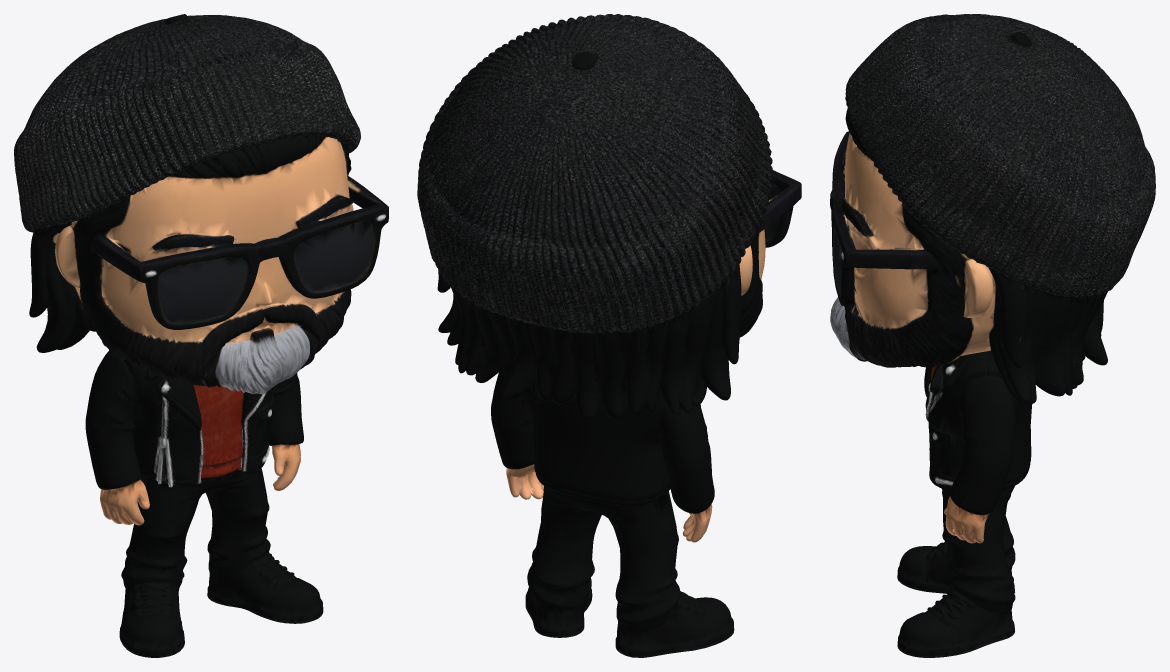
File: avatar.glb
3 renders of one model, left to right at view 1: azimuth 30°, elevation 25°; view 2: azimuth 150°, elevation 25°; view 3: azimuth 270°, elevation 25°, orthographic. The views are drawn at different scales.
Size of the model in its own units: 1.01 by 1.9 by 0.9702.
Materials: 1 (1 with a texture image).
